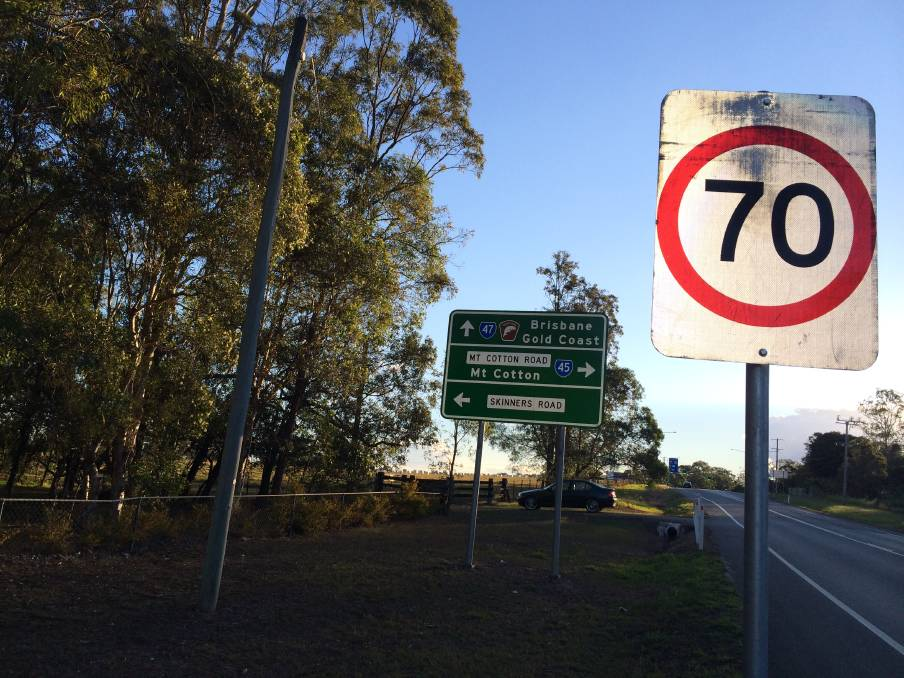Speed_limit_70km: (655, 124, 880, 326)
